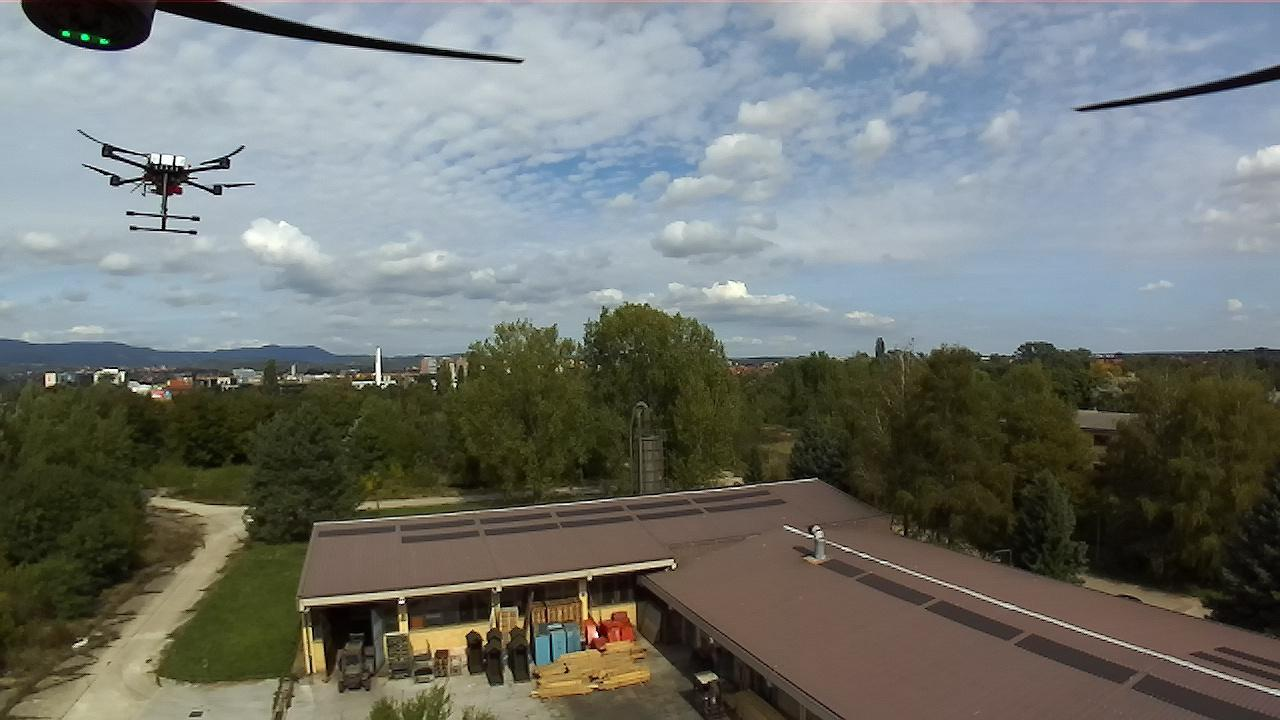drone: (66, 113, 275, 244)
